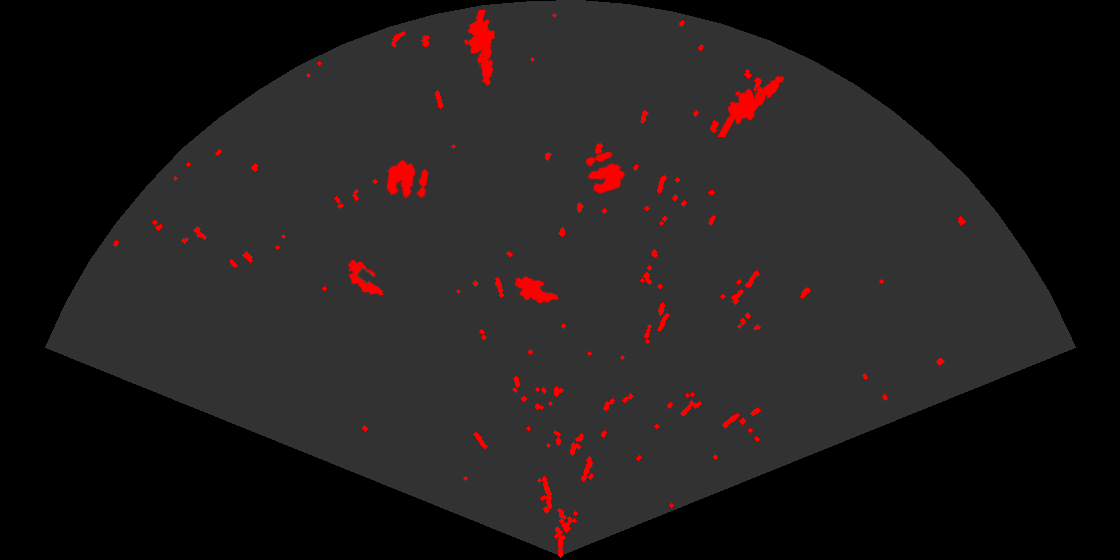AUV: (347, 258, 385, 297), (513, 275, 560, 305)
ball: (584, 150, 627, 196), (385, 158, 430, 200)
frogman: (716, 74, 786, 137), (462, 10, 497, 88)
